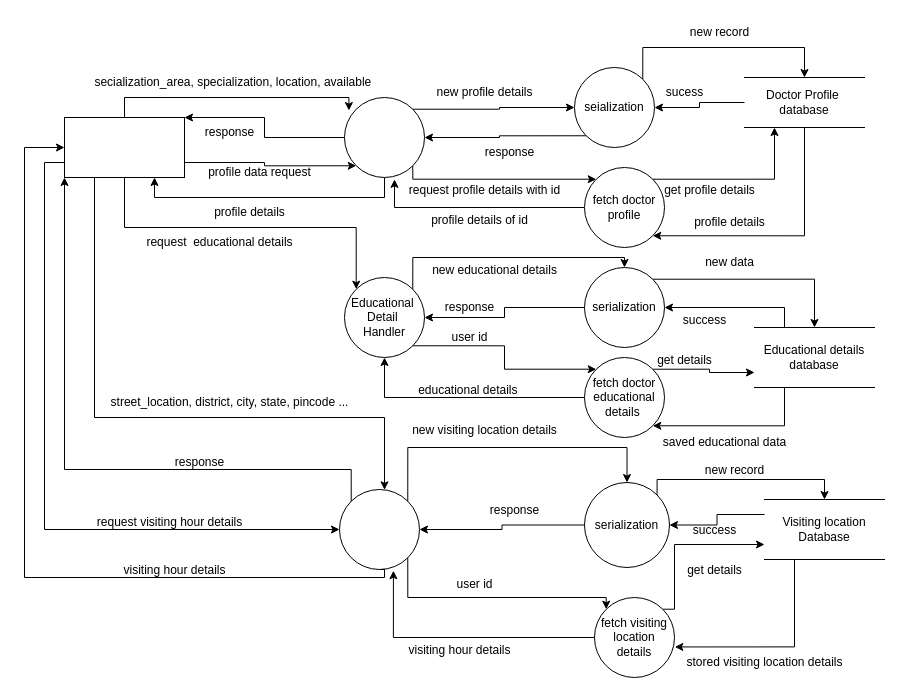
Image size: 902x695. Some labels were removed from this diagram. The shapes that lost their labels are listed below. From the top down, each one's centre as x and y in pixels, then its label:
the point at 124,147: Doctor
the point at 384,137: Profile Handler Module
the point at 379,529: Visiting location Handler
